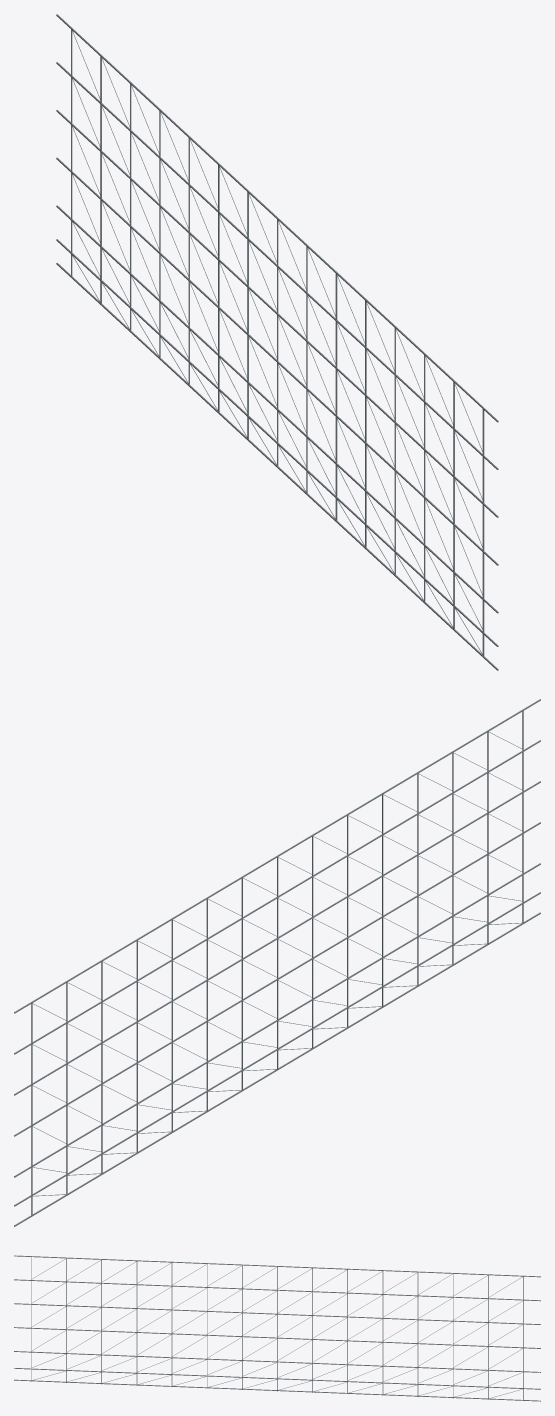
The model's file is G7_Completion_Prior_G7_MiddleExterior_E10_r001.glb.
3 views of the same model, one above another, from view 1: azimuth 30°, elevation 25°; view 2: azimuth 150°, elevation 25°; view 3: azimuth 270°, elevation 25° (orthographic). The views are drawn at different scales.
Parts seen in each view (by area): view 1: G7_MiddleExterior_E10_frame; view 2: G7_MiddleExterior_E10_frame; view 3: G7_MiddleExterior_E10_frame.
Part boxes in pixels (box(x1,y1,x2,y2)): G7_MiddleExterior_E10_frame: box(56, 14, 498, 670); G7_MiddleExterior_E10_frame: box(14, 699, 540, 1226); G7_MiddleExterior_E10_frame: box(14, 1255, 540, 1401).
Size of the model in its own units: 16.21 by 44.5 by 170.
2 materials, 2 textured.
